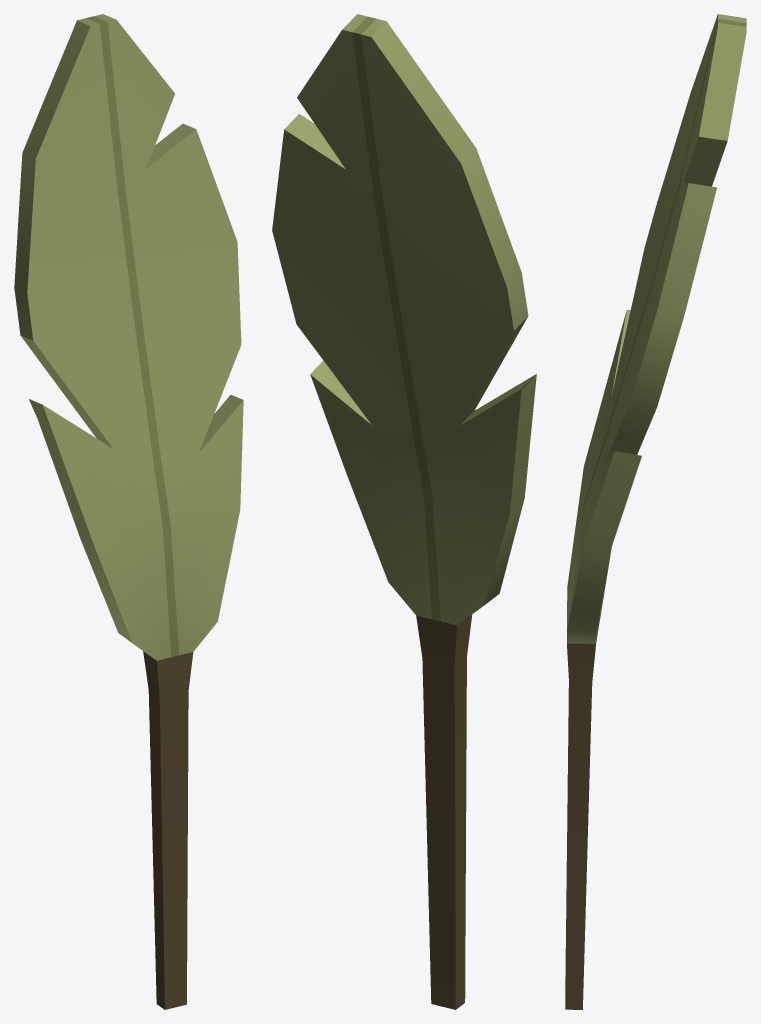
File: plant_A_single.fbx
The picture shows the model from 3 angles, left to right: view 1: azimuth 30°, elevation 25°; view 2: azimuth 150°, elevation 25°; view 3: azimuth 270°, elevation 25°; orthographic projection. The views are drawn at different scales.
Visible parts, largest first — view 1: plant_A_single; view 2: plant_A_single; view 3: plant_A_single.
Part boxes in pixels (x1,y1,x2,y2): plant_A_single: (14,14,243,1009); plant_A_single: (272,14,536,1009); plant_A_single: (565,14,746,1009).
Size of the model in its own units: 29.31 by 124 by 20.75.
